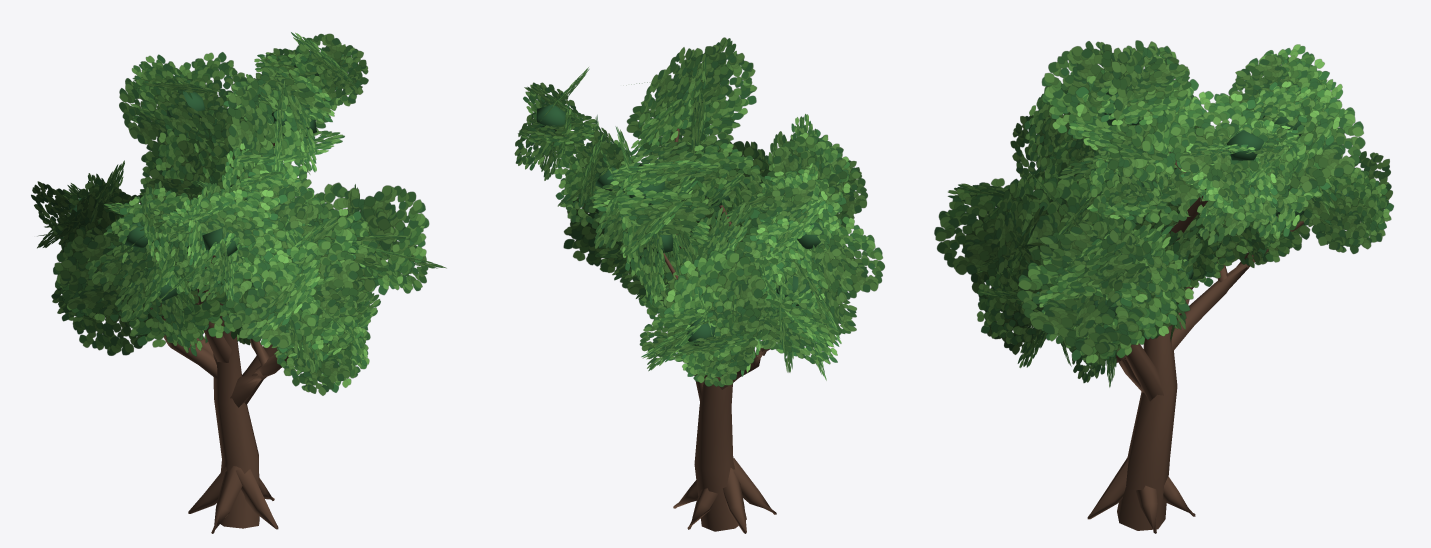
File: nature_oak2.glb
The picture shows the model from 3 angles, left to right: view 1: azimuth 30°, elevation 25°; view 2: azimuth 150°, elevation 25°; view 3: azimuth 270°, elevation 25°; orthographic projection. The views are drawn at different scales.
Parts seen in each view (by area): view 1: nature_oak2; view 2: nature_oak2; view 3: nature_oak2.
Part boxes in pixels (x1=…): nature_oak2: x1=31, y1=32, x2=446, y2=533; nature_oak2: x1=514, y1=37, x2=884, y2=533; nature_oak2: x1=934, y1=40, x2=1393, y2=533.
Bounding box in the file's own units: 4.89 × 6.24 × 5.38.
3 materials, 1 textured.
